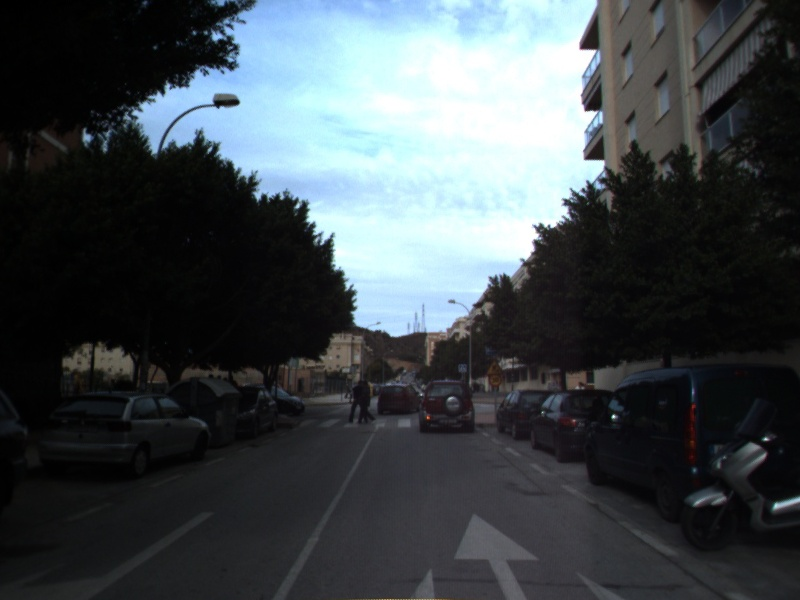STRAIGHT: (452, 511, 542, 600)
